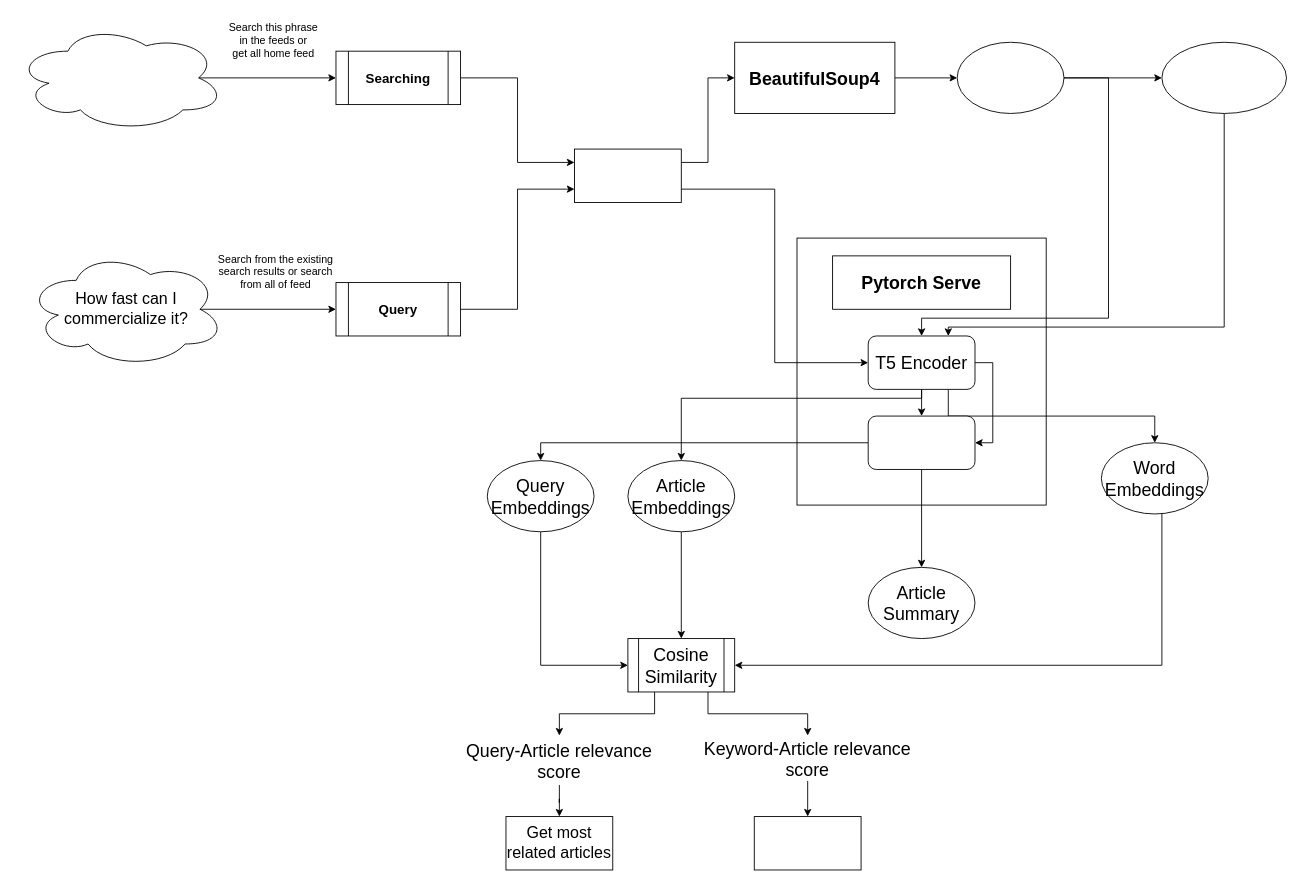
Some shapes in this 1302 by 887 pixel diagram are drawn without their labels. Here are the shapes that lost their labels. From the top down, the box of each, then its label:
(15, 24, 225, 131): Search for "Nuclear Energy"
(956, 41, 1064, 113): Articles
(1161, 41, 1286, 113): Word n-gram
(574, 148, 681, 202): FastAPI
(867, 415, 975, 469): T5 Decoder
(753, 816, 861, 870): Get keyword for each article
